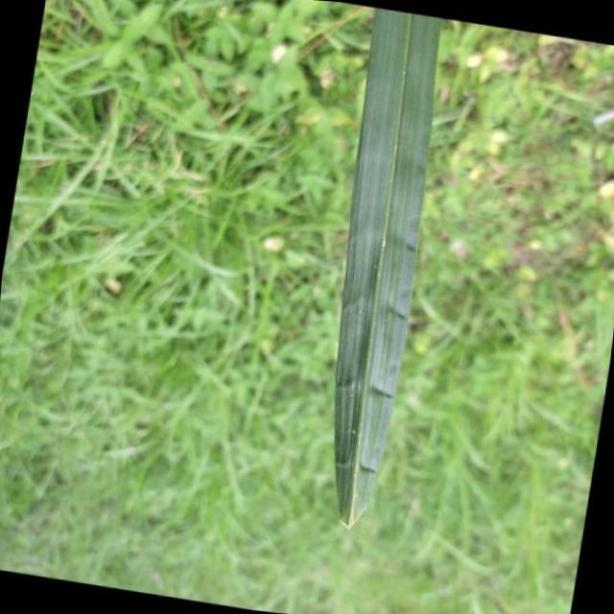Boron: (330, 0, 437, 528)
